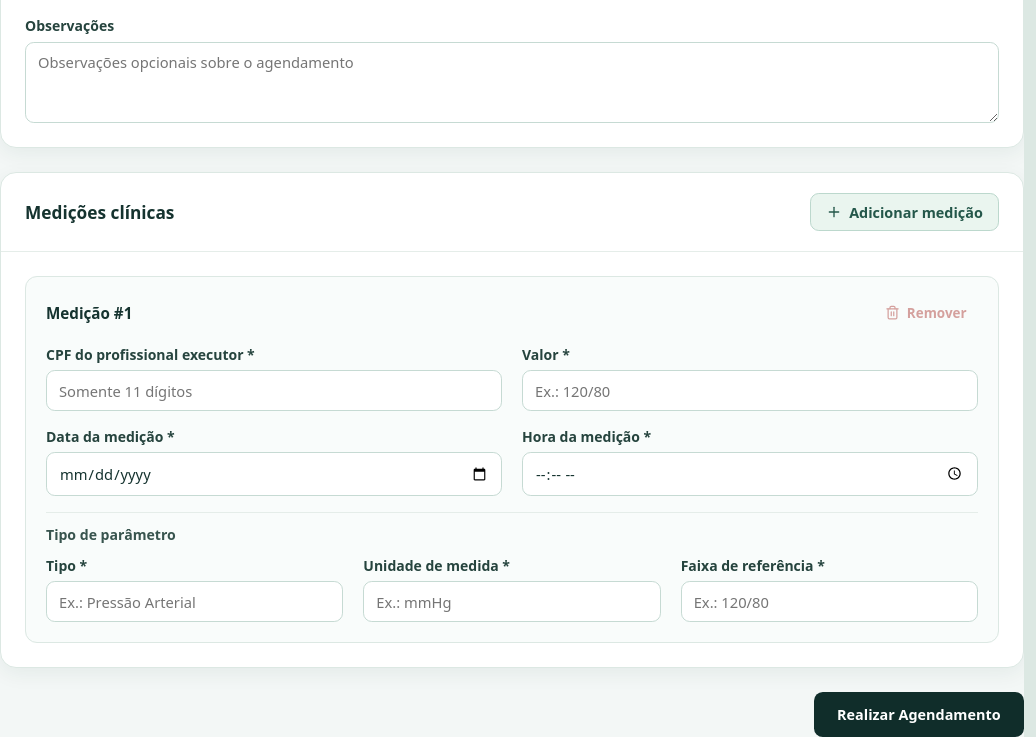
Test: RealizarAgendamento › bloqueia envio vazio exibindo todos os erros, alerta geral e aria-invalid
This screenshot has width=1036, height=737.
(page scrolled)
Click the button "Realizar Agendamento".
click(919, 715)  # box [814, 692, 1024, 736]
(page scrolled)
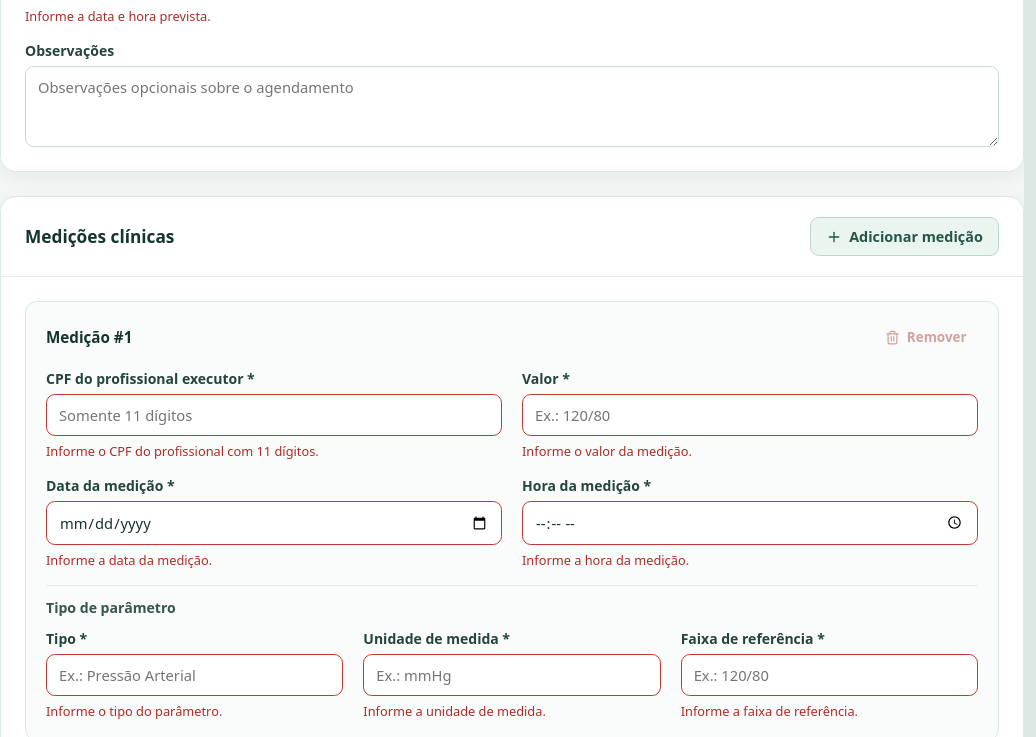
Check: the text "Informe a data e hora prevista." is shown, box [25, 7, 211, 25]
Check: the text "Informe o CPF do profissional com 11 dígitos." is shown, box [46, 442, 319, 460]
Check: the text "Informe o valor da medição." is shown, box [522, 442, 692, 460]
